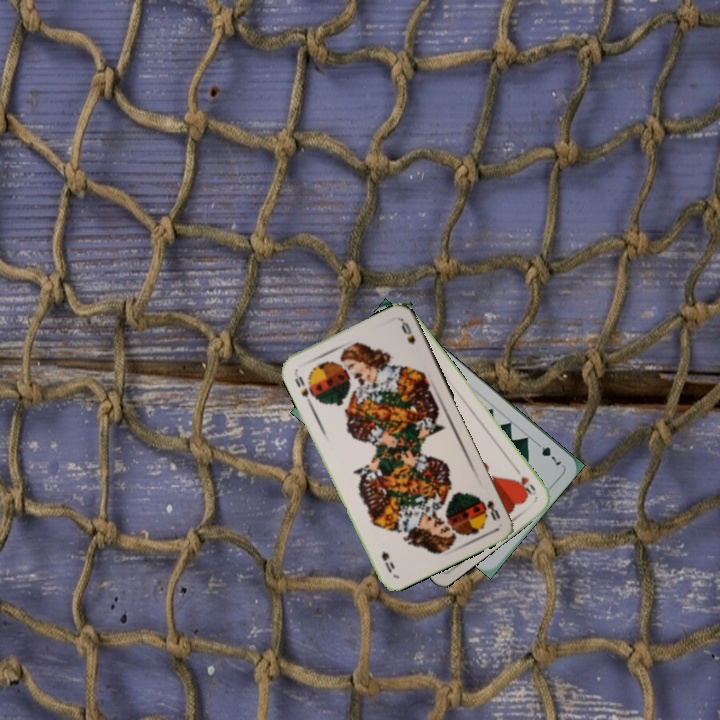G7: (531, 437, 564, 470)
HO: (511, 464, 538, 498)
SO: (478, 496, 503, 523), (291, 372, 311, 400)
